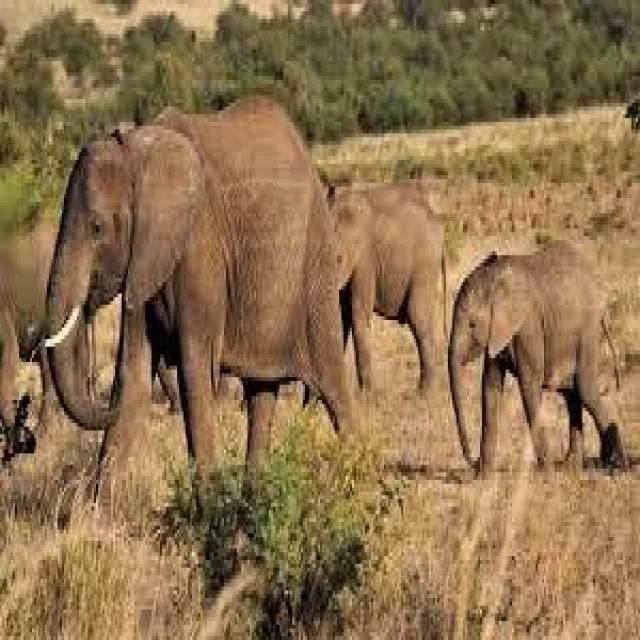Elephant: (40, 88, 348, 461), (446, 240, 621, 465), (320, 179, 448, 392)
